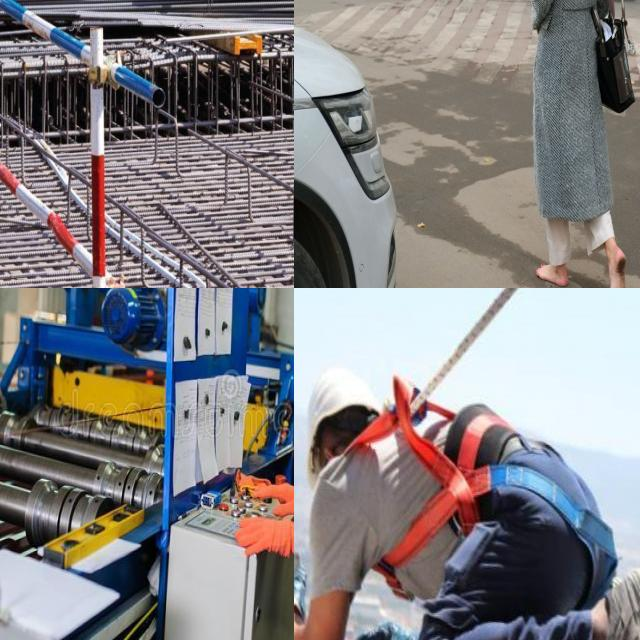Barefoots: (606, 249, 626, 288), (536, 263, 568, 287)
Harness: (350, 377, 619, 608)
